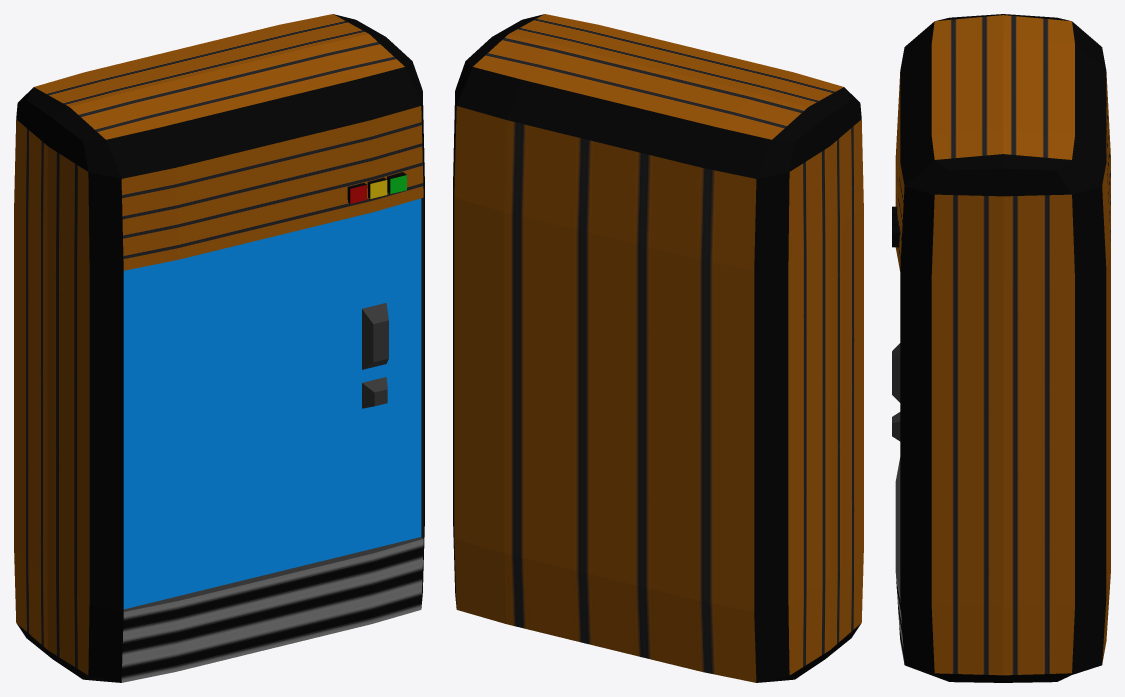
The model's file is Refrigirator.fbx.
The picture shows the model from 3 angles, left to right: view 1: azimuth 30°, elevation 25°; view 2: azimuth 150°, elevation 25°; view 3: azimuth 270°, elevation 25°; orthographic projection. The views are drawn at different scales.
Parts seen in each view (by area): view 1: Refrigator, Door; view 2: Refrigator; view 3: Refrigator, Door.
Part boxes in pixels (bbox=[...]): Refrigator: bbox=[14, 14, 424, 682]; Door: bbox=[123, 198, 421, 609]; Refrigator: bbox=[453, 14, 863, 682]; Refrigator: bbox=[892, 14, 1110, 682]; Door: bbox=[892, 343, 900, 441].
Size of the model in its own units: 167 by 254 by 96.72.
